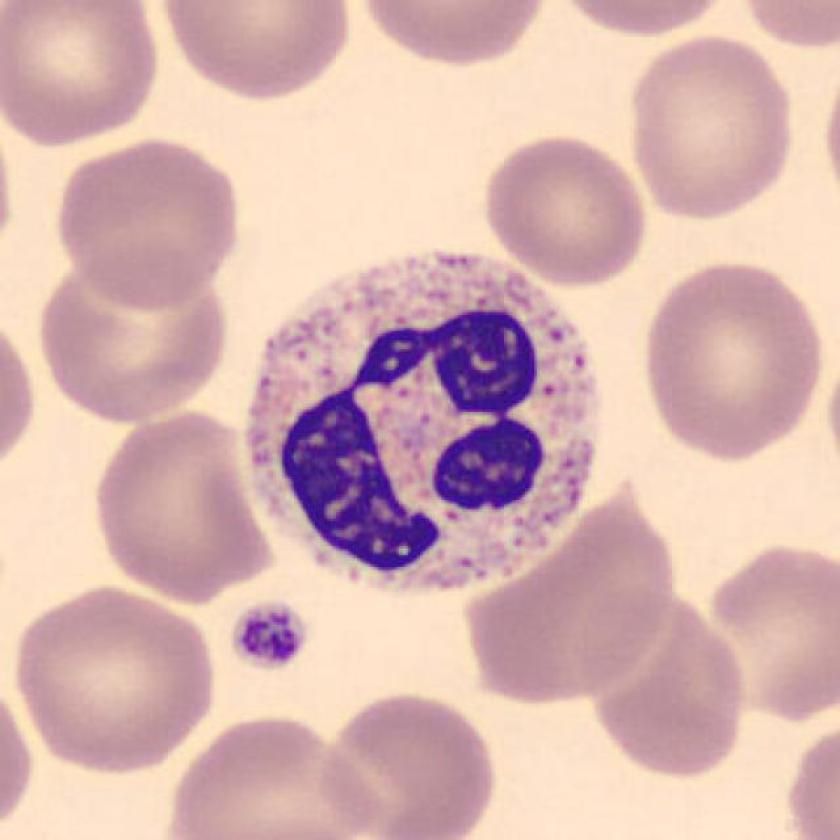neutrophil: (245, 253, 594, 594)
